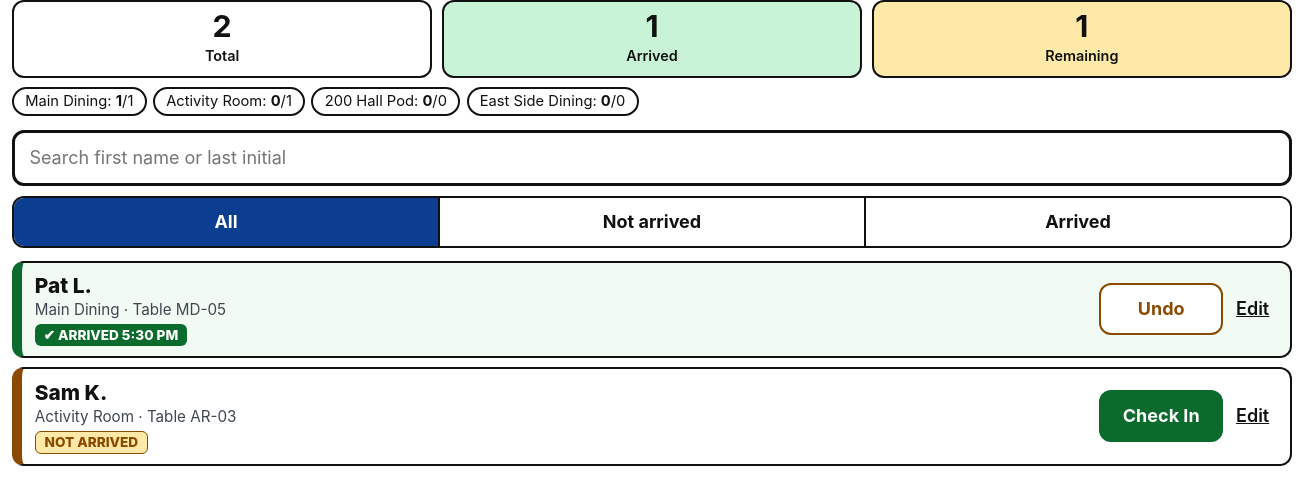
Test: Guests list: tap to locate › search still works
The image size is (1304, 483).
In the search field named "Search guests": coordinates (652, 158) [12,130,1292,186], type "pat"
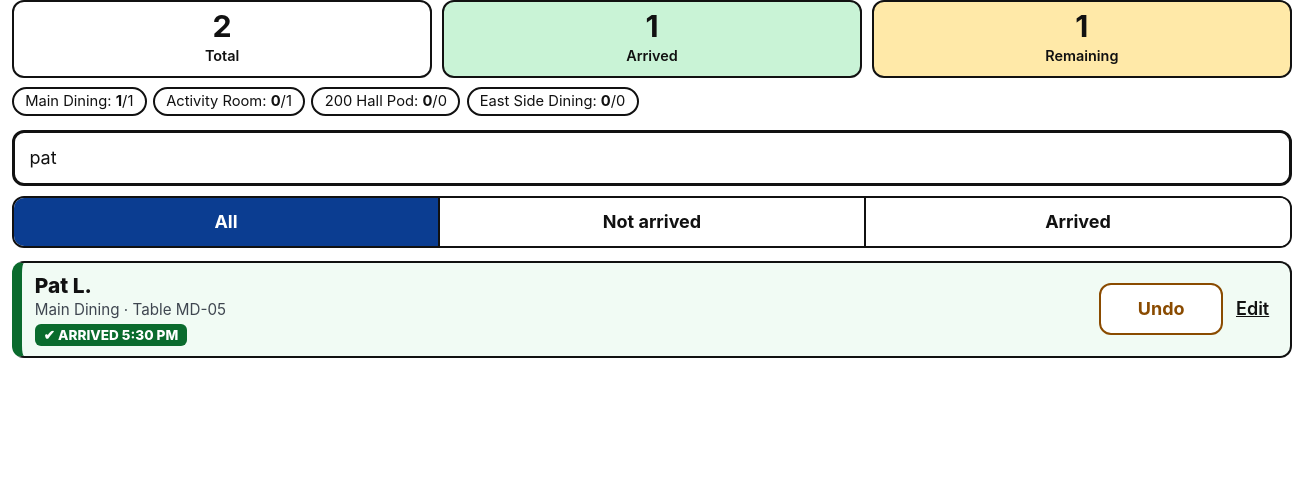
Expected: the text "Pat L." is shown, [35,273,92,298]
Expected: the button "Sam K." is gone
